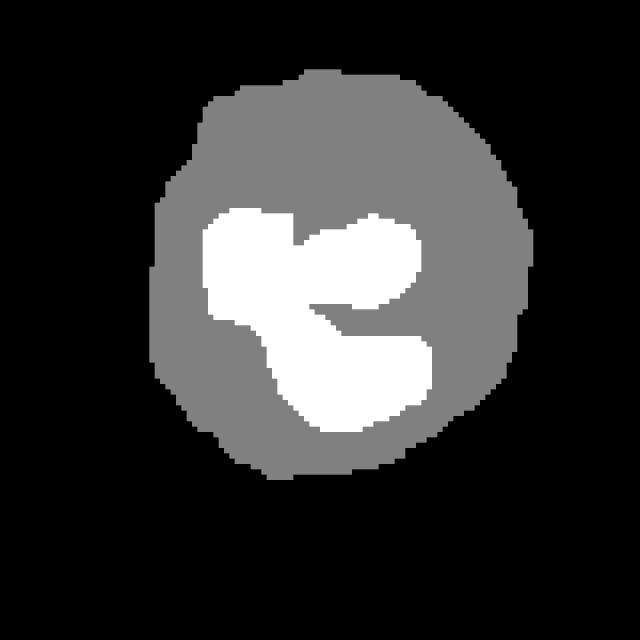WBC: (122, 38, 554, 502)
